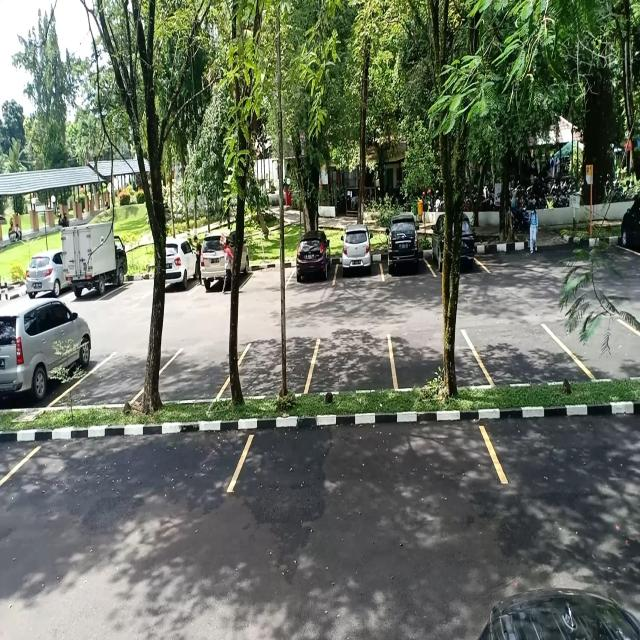empty: (237, 426, 507, 499), (17, 438, 245, 508), (481, 317, 580, 397), (392, 319, 482, 402), (307, 328, 395, 404), (72, 346, 177, 405), (226, 336, 314, 406), (154, 345, 228, 413)
occupied: (0, 312, 90, 408), (335, 235, 382, 289), (382, 233, 428, 281), (287, 244, 337, 288)
